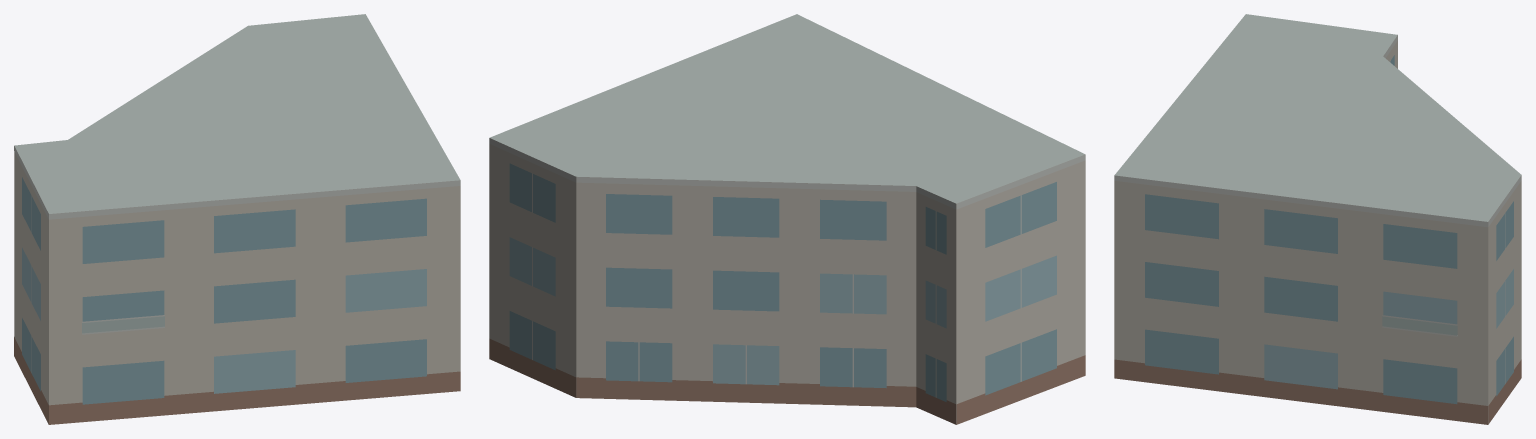
Rendered from survey-upis-32554791.glb.
The picture shows the model from 3 angles, left to right: view 1: azimuth 30°, elevation 25°; view 2: azimuth 150°, elevation 25°; view 3: azimuth 270°, elevation 25°; orthographic projection. The views are drawn at different scales.
Visible parts, largest first — view 1: survey-upis-32554791.tmp; view 2: survey-upis-32554791.tmp; view 3: survey-upis-32554791.tmp.
Boxes of the visible parts, x1,y1,x2,y2 form: survey-upis-32554791.tmp: [14, 14, 460, 424]; survey-upis-32554791.tmp: [489, 14, 1085, 424]; survey-upis-32554791.tmp: [1114, 14, 1521, 424].
Size of the model in its own units: 20.11 by 9.15 by 16.65.
